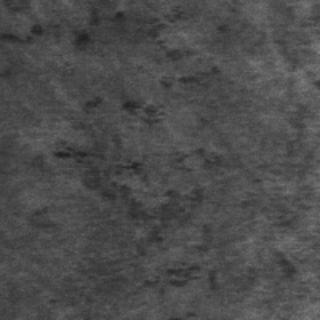rolled pit: (52, 94, 216, 286), (2, 4, 186, 61)
